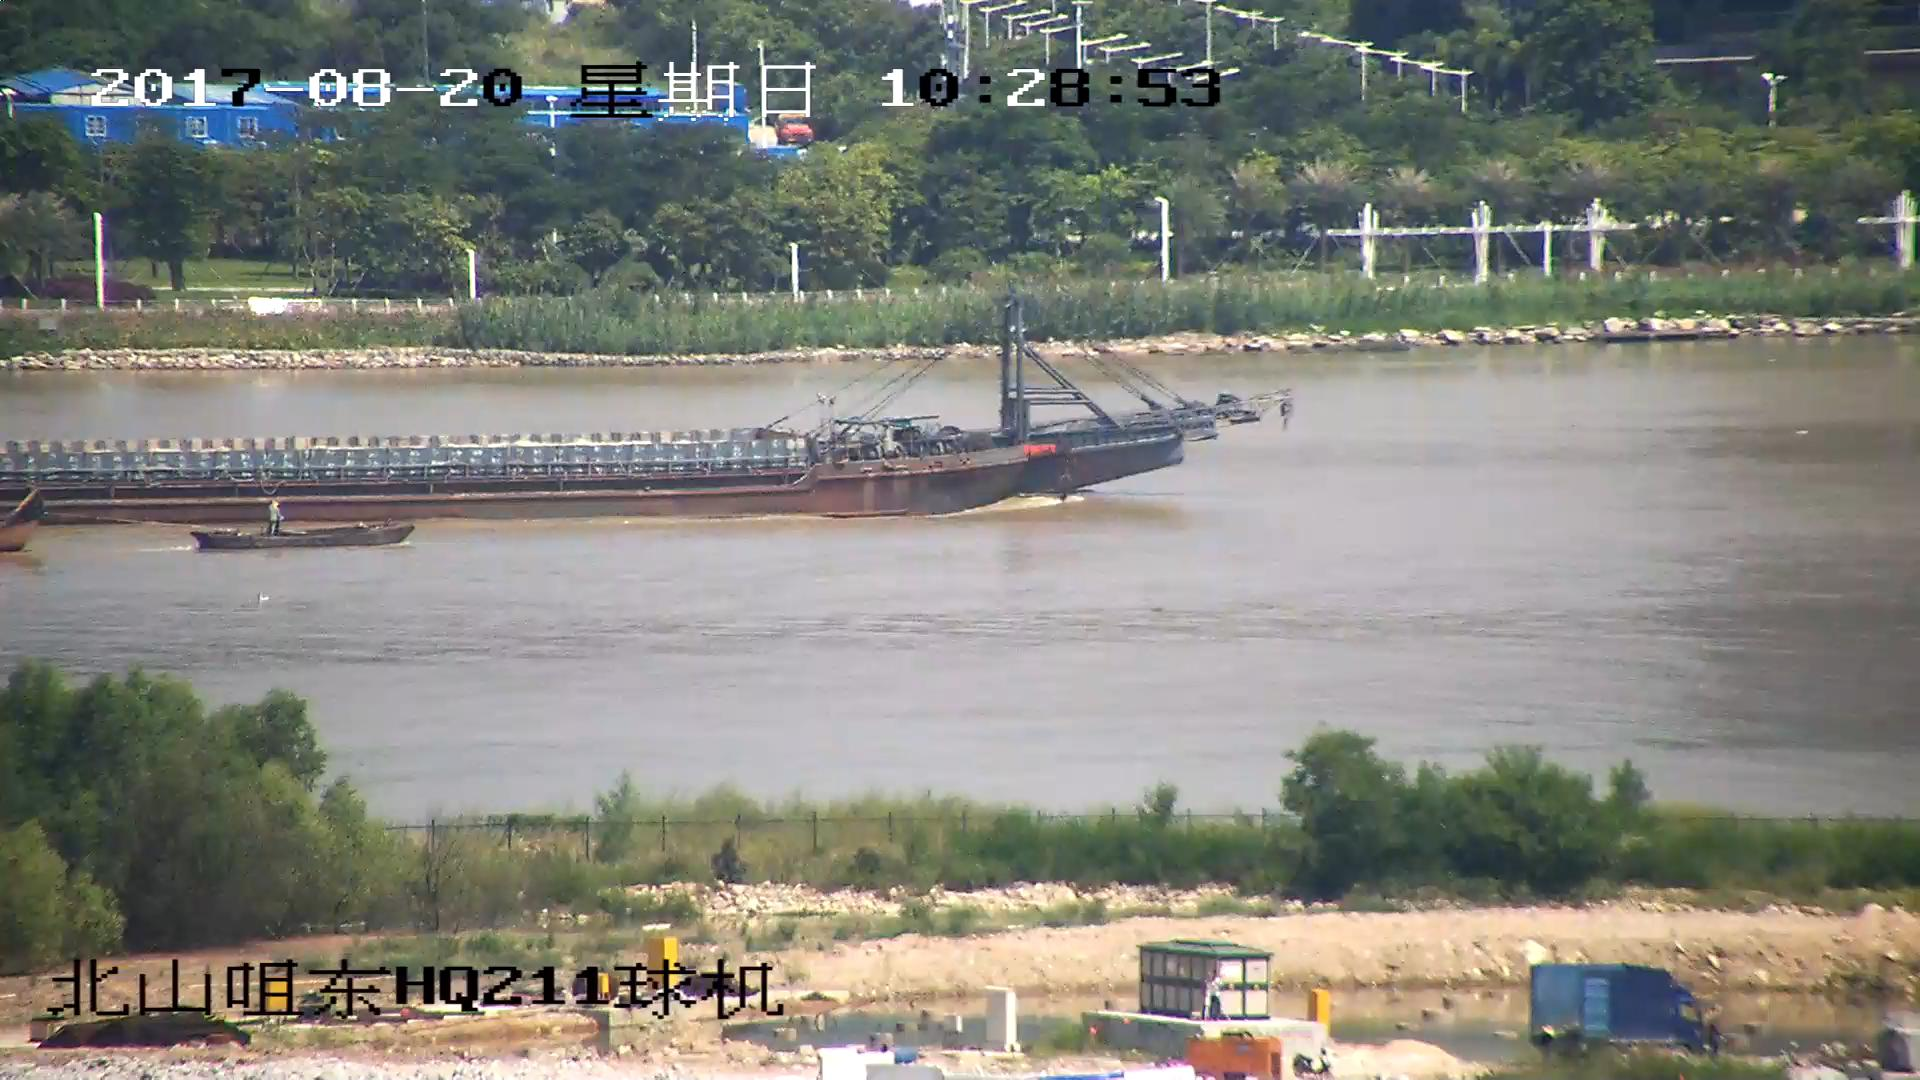fishing boat: (191, 505, 410, 554)
ore carrier: (1, 288, 1284, 522)
